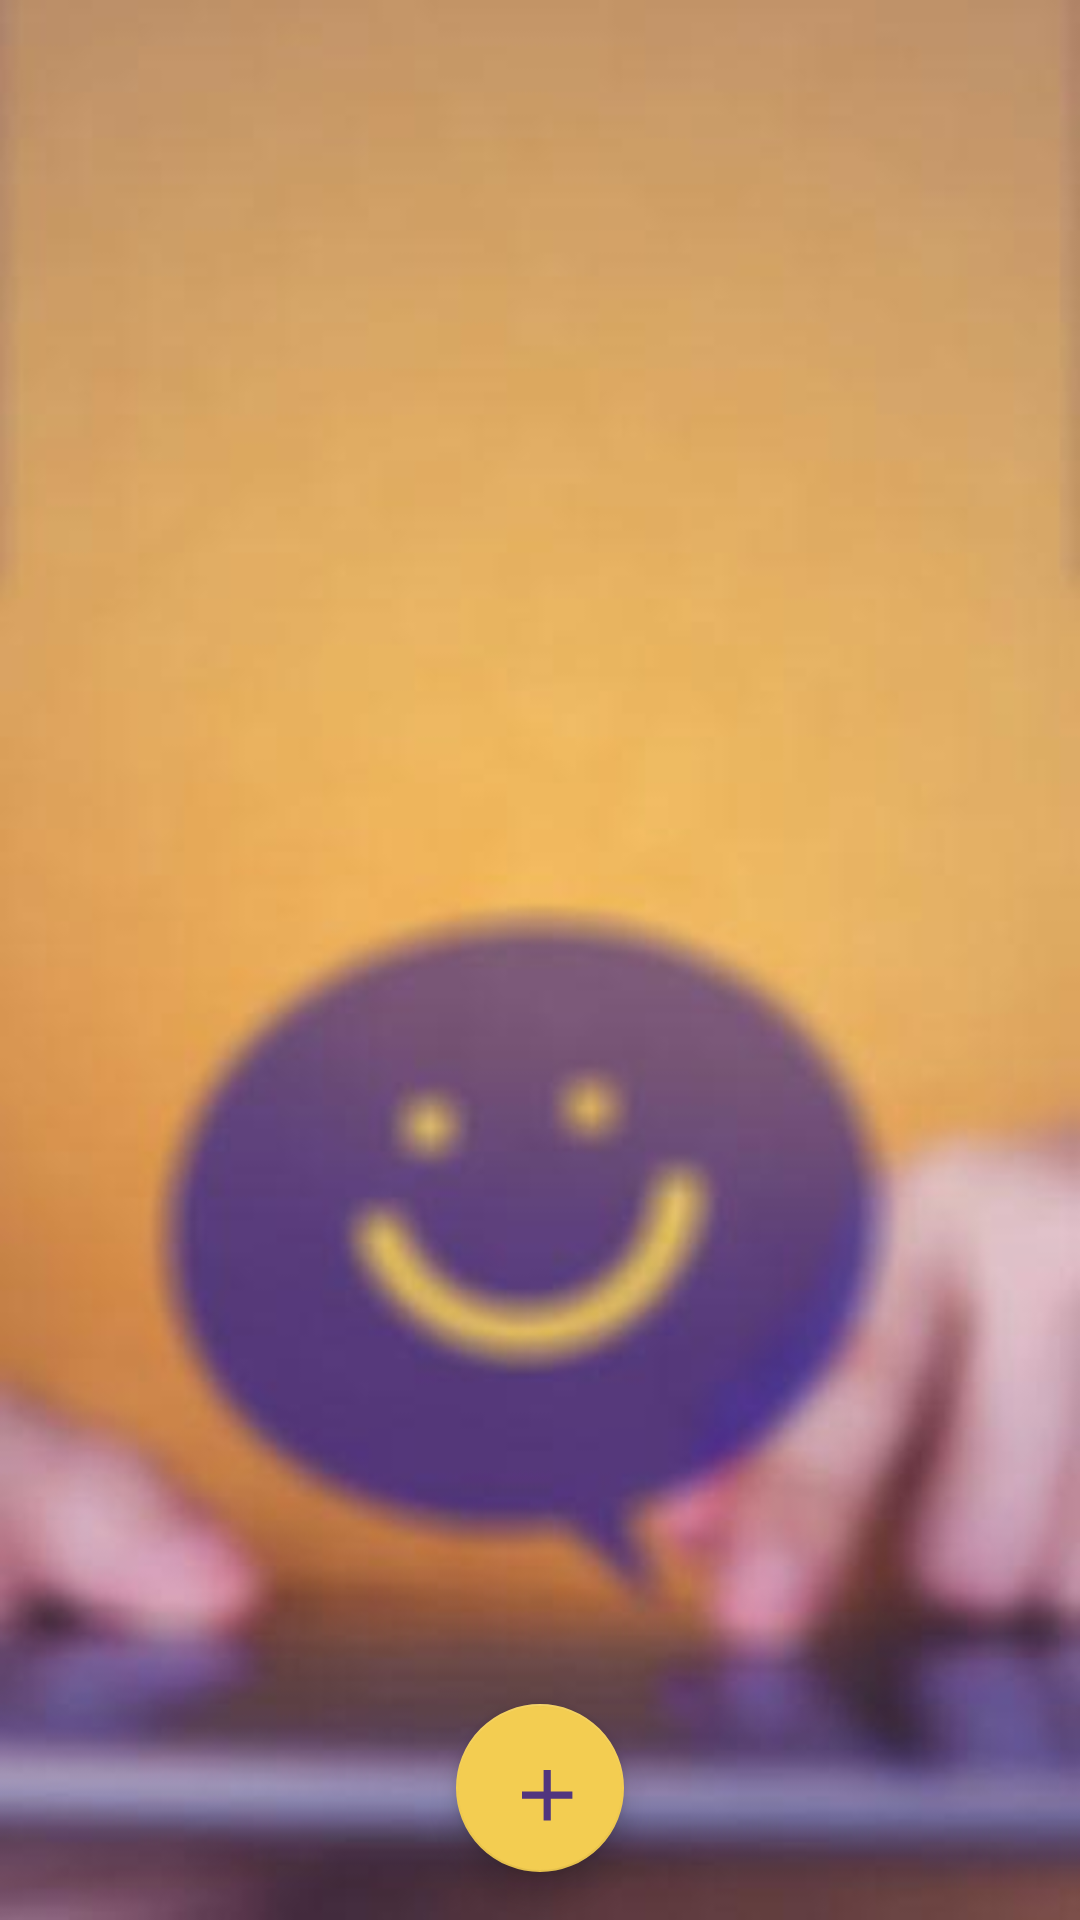

Where to tap for icons on this 1080w x 1920h app screen, as [x,y]:
plusimage: [540,1788]
